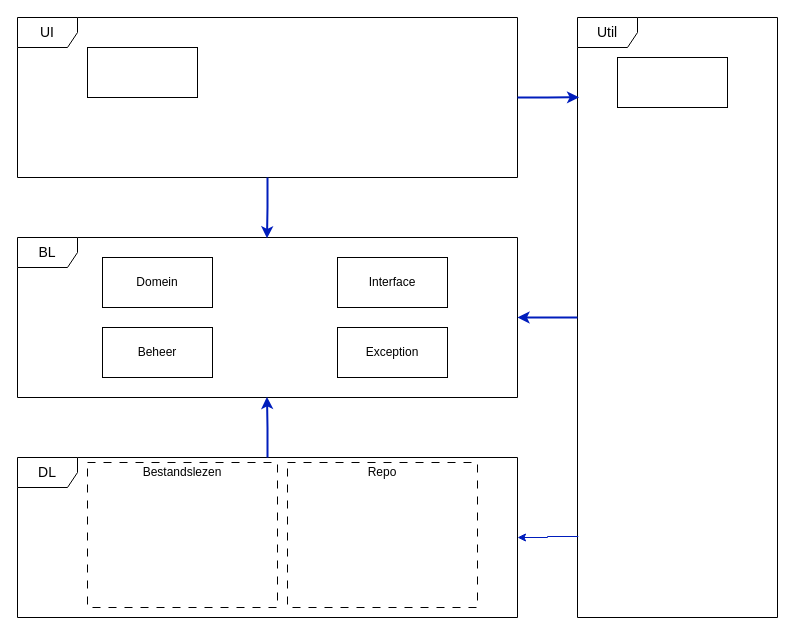
Some shapes in this 795 by 635 pixel diagram are drawn without their labels. Here are the shapes that lost their labels. From the top down, the centre of each, then its label:
(142,72): Program
(672,82): Factories
